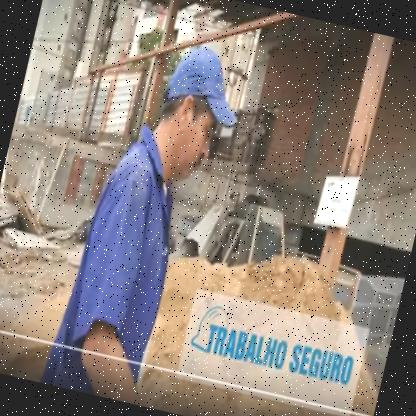sem_capacete: (146, 35, 256, 190)
sem_colete_refletivo: (39, 114, 200, 404)
